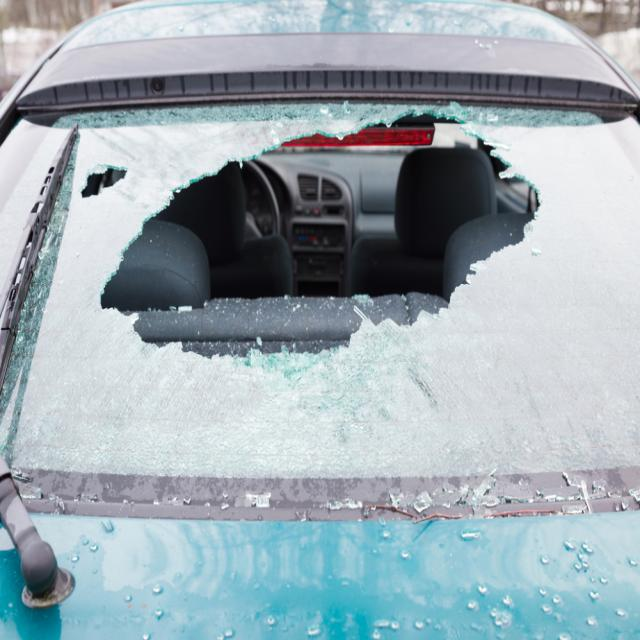glass shatter: (0, 96, 640, 506)
